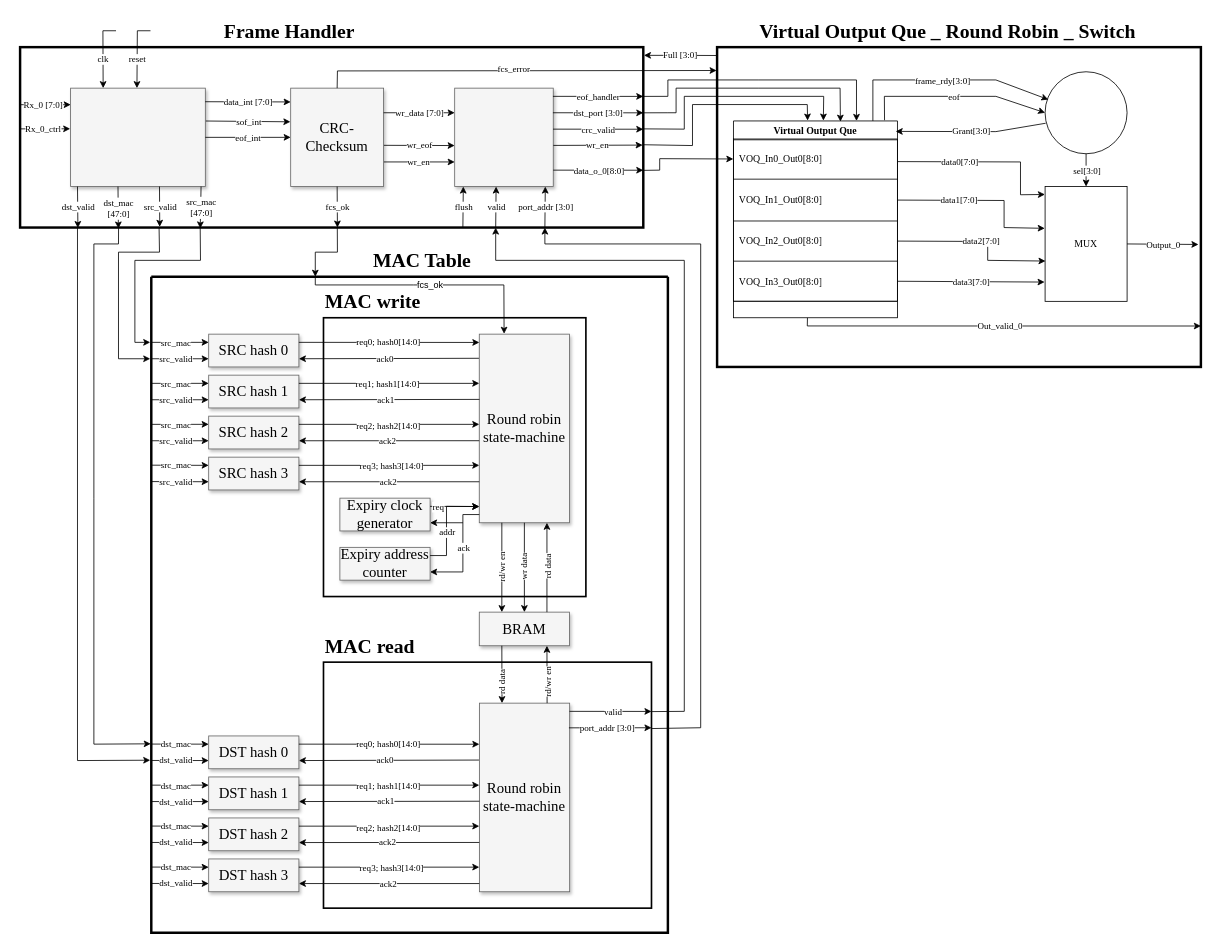
Image size: 1228x948. Some labels were removed from this diagram. Each missing label, with the centre of its shape:
"Buffer [8:0]" goes at point (504, 138).
"Frame Parser" goes at point (138, 138).
"Round Robin" goes at point (1085, 112).
